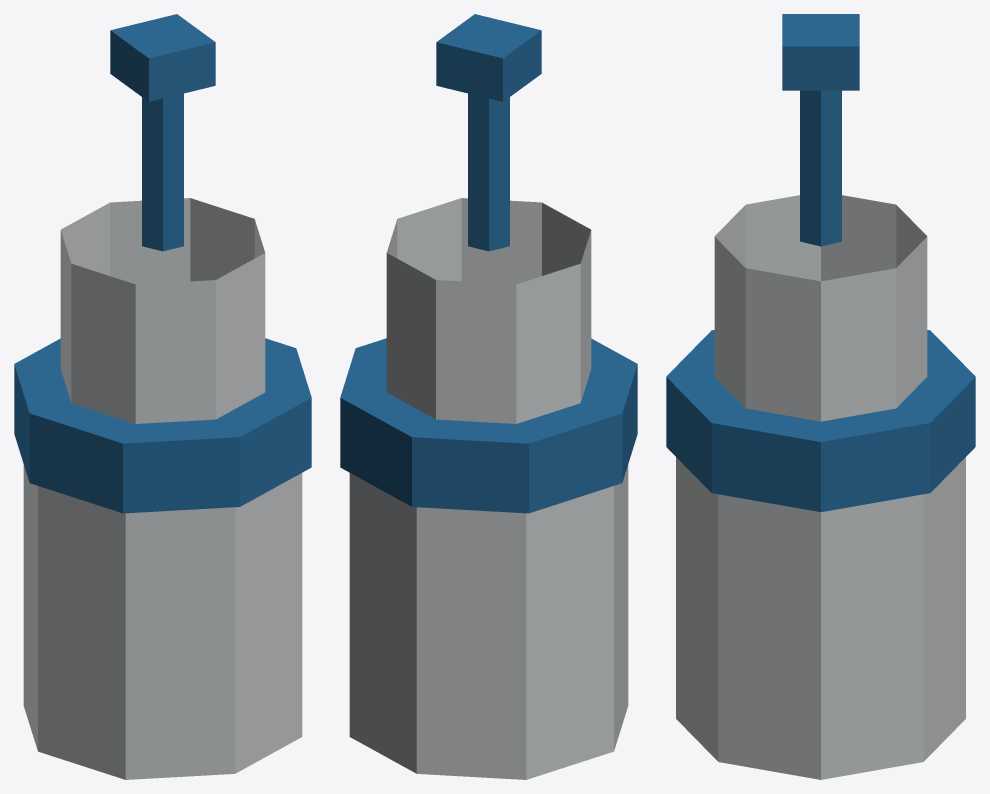
File: buoy_marker.glb
3 views of the same model, side by side, from view 1: azimuth 30°, elevation 25°; view 2: azimuth 150°, elevation 25°; view 3: azimuth 270°, elevation 25° (orthographic).
Visible parts, largest first — view 1: buoy_marker; view 2: buoy_marker; view 3: buoy_marker.
Boxes of the visible parts, <box> form: buoy_marker: <box>14,14,311,779</box>; buoy_marker: <box>340,14,637,779</box>; buoy_marker: <box>666,14,975,779</box>.
Size of the model in its own units: 0.64 by 1.57 by 0.64.
